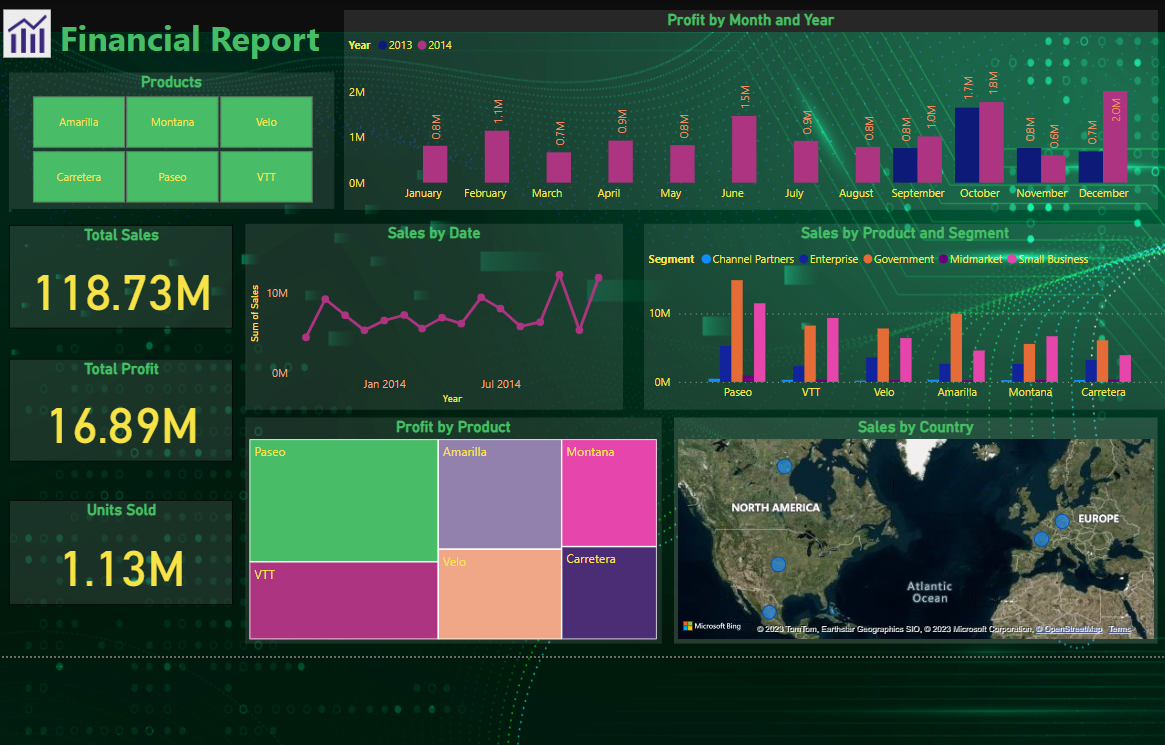

This screenshot's page, from the dashboard's own definition file:
{"tool":"powerbi","page":{"name":"Financial Report Dashboard","canvas":[1280,720],"ordinal":0},"visuals":[{"type":"treemap","fields":{"Group":["financials.Product"],"Values":["Sum(financials.Profit)"]},"box":[270.1,457.9,456.6,248.2],"z":0},{"type":"clusteredColumnChart","fields":{"Y":["Sum(financials.Profit)"],"Category":["financials.Date.Variation.Date Hierarchy.Month"],"Series":["financials.Date.Variation.Date Hierarchy.Year"]},"box":[378.4,11,892.6,219.4],"z":1000},{"type":"lineChart","title":"Sales by Date","fields":{"Y":["Sum(financials. Sales)"],"Category":["financials.Date.Variation.Date Hierarchy.Year","financials.Date.Variation.Date Hierarchy.Quarter","financials.Date.Variation.Date Hierarchy.Month","financials.Date.Variation.Date Hierarchy.Day"]},"box":[269.9,245.1,414.5,203.8],"z":2000},{"type":"clusteredColumnChart","fields":{"Category":["financials.Product"],"Y":["Sum(financials. Sales)"],"Series":["financials.Segment"]},"box":[707.8,245.1,572.8,203.8],"z":3000},{"type":"slicer","title":"Products","fields":{"Values":["financials.Product"]},"box":[11,79.5,356.5,149.4],"z":4000},{"type":"textbox","box":[62,11,305.7,62],"z":5000},{"type":"image","box":[0,0,61.7,72.7],"z":6000},{"type":"card","title":"Total Sales","fields":{"Values":["Sum(financials. Sales)"]},"box":[11,246.8,245.4,113.8],"z":7000},{"type":"card","title":"Total Profit","fields":{"Values":["Sum(financials.Profit)"]},"box":[11,393.5,245.4,112.4],"z":8000},{"type":"card","title":"Units Sold","fields":{"Values":["Sum(financials.Units Sold)"]},"box":[11,548.4,245.4,115.2],"z":9000},{"type":"map","title":"Sales by Country","fields":{"Category":["financials.Country"],"Size":["Sum(financials. Sales)"]},"box":[740.4,457.9,530.6,248.2],"z":10000}]}

Visuals, with their boxes on the page's 1280x720 design canvas (x1, y1, x2, y2). These are canvas units, not pixel positions in the 1165x745 screenshot, which may show the page scaled, cropped or inside an application window:
treemap - financials.Product x Sum(financials.Profit): x1=270 y1=458 x2=727 y2=706
clusteredColumnChart - Sum(financials.Profit) x financials.Date.Variation.Date Hierarchy.Month: x1=378 y1=11 x2=1271 y2=230
"Sales by Date" lineChart: x1=270 y1=245 x2=684 y2=449
clusteredColumnChart - financials.Product x Sum(financials. Sales): x1=708 y1=245 x2=1281 y2=449
"Products" slicer: x1=11 y1=80 x2=368 y2=229
textbox: x1=62 y1=11 x2=368 y2=73
image: x1=0 y1=0 x2=62 y2=73
"Total Sales" card: x1=11 y1=247 x2=256 y2=361
"Total Profit" card: x1=11 y1=394 x2=256 y2=506
"Units Sold" card: x1=11 y1=548 x2=256 y2=664
"Sales by Country" map: x1=740 y1=458 x2=1271 y2=706
